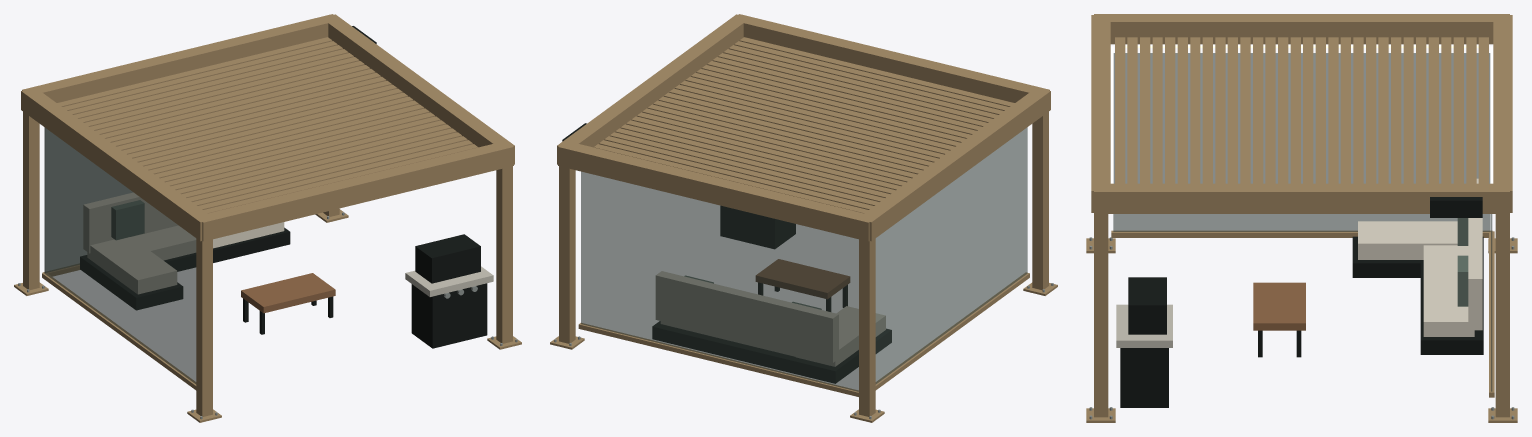
File: coordinatez-axis-13x13-sand.glb
3 renders of one model, left to right at view 1: azimuth 30°, elevation 25°; view 2: azimuth 150°, elevation 25°; view 3: azimuth 270°, elevation 25°, orthographic. The views are drawn at different scales.
Visible parts, largest first — view 1: Left motorized wall, Structural post (×3), Front motor beam, Rear drainage beam, Rear motorized wall, Left beam, Right beam, BBQ cabinet, Chaise cushion, BBQ hood, Coffee table top, Sofa seat (+34 smaller); view 2: Rear motorized wall, Left motorized wall, Sofa back, Structural post (×3), Rear drainage beam, Front motor beam, Left beam, Right beam, Sofa base, Coffee table top, BBQ cabinet, Rear wall bottom rail (+31 smaller); view 3: Left motorized wall, Right beam, Left beam, Structural post (×2), Sofa seat, Rear drainage beam, Front motor beam, Chaise cushion, BBQ cabinet, Coffee table top, BBQ hood, Left wall bottom rail (+39 smaller).
Part boxes in pixels (x1=…): Left motorized wall: x1=44, y1=127, x2=196, y2=383; Structural post (×3): x1=23, y1=111, x2=512, y2=416; Front motor beam: x1=195, y1=144, x2=513, y2=241; Rear drainage beam: x1=22, y1=14, x2=339, y2=102; Rear motorized wall: x1=45, y1=128, x2=132, y2=272; Left beam: x1=21, y1=87, x2=209, y2=241; Right beam: x1=322, y1=14, x2=514, y2=164; BBQ cabinet: x1=411, y1=283, x2=487, y2=348; Chaise cushion: x1=87, y1=237, x2=176, y2=294; BBQ hood: x1=415, y1=234, x2=480, y2=283; Coffee table top: x1=241, y1=273, x2=335, y2=313; Sofa seat: x1=132, y1=222, x2=284, y2=260; Rear motorized wall: x1=581, y1=171, x2=858, y2=391; Left motorized wall: x1=875, y1=127, x2=1027, y2=383; Sofa back: x1=656, y1=271, x2=838, y2=362; Structural post (×3): x1=559, y1=111, x2=1048, y2=416; Rear drainage beam: x1=558, y1=142, x2=876, y2=241; Front motor beam: x1=732, y1=14, x2=1049, y2=102; Left beam: x1=860, y1=87, x2=1050, y2=241; Right beam: x1=557, y1=14, x2=749, y2=164; Sofa base: x1=652, y1=321, x2=858, y2=383; Coffee table top: x1=756, y1=259, x2=849, y2=298; BBQ cabinet: x1=720, y1=206, x2=795, y2=248; Rear wall bottom rail: x1=578, y1=323, x2=858, y2=396; Left motorized wall: x1=1113, y1=53, x2=1490, y2=231; Right beam: x1=1094, y1=183, x2=1509, y2=213; Left beam: x1=1094, y1=14, x2=1509, y2=44; Structural post (×2): x1=1094, y1=214, x2=1509, y2=417; Sofa seat: x1=1423, y1=245, x2=1474, y2=336; Rear drainage beam: x1=1493, y1=15, x2=1512, y2=212; Front motor beam: x1=1091, y1=15, x2=1110, y2=212; Chaise cushion: x1=1358, y1=221, x2=1457, y2=259; BBQ cabinet: x1=1120, y1=348, x2=1168, y2=407; Coffee table top: x1=1253, y1=282, x2=1305, y2=330; BBQ hood: x1=1128, y1=277, x2=1166, y2=334; Left wall bottom rail: x1=1111, y1=230, x2=1492, y2=237.
Size of the model in its own units: 4.29 by 2.49 by 4.25.
